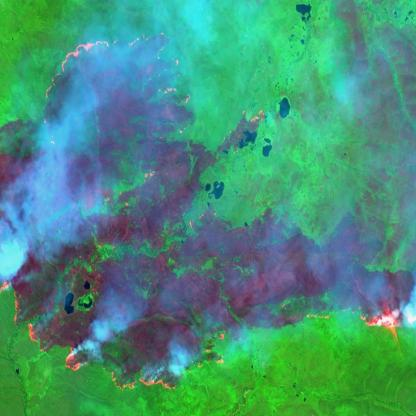fire: (33, 21, 209, 146), (60, 336, 221, 396), (355, 261, 416, 338), (1, 267, 39, 358), (221, 104, 267, 156)
